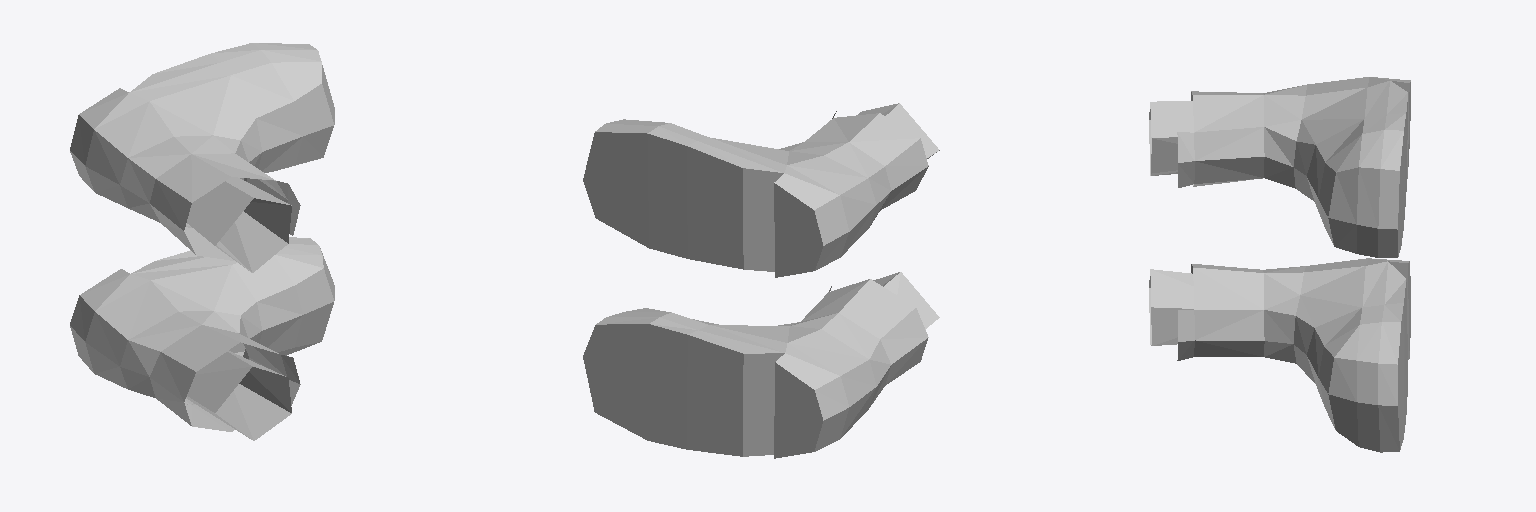
The picture shows the model from 3 angles: view 1: azimuth 30°, elevation 25°; view 2: azimuth 150°, elevation 25°; view 3: azimuth 270°, elevation 25°; orthographic projection.
Visible parts, largest first — view 1: ka_foot_001_re; view 2: ka_foot_001_re; view 3: ka_foot_001_re.
Boxes of the visible parts, box(x1,y1,x2,y2) form: ka_foot_001_re: box(70, 43, 334, 440); ka_foot_001_re: box(583, 103, 939, 458); ka_foot_001_re: box(1149, 77, 1410, 452).
Bounding box in the file's own units: 37.86 × 44.16 × 34.06.